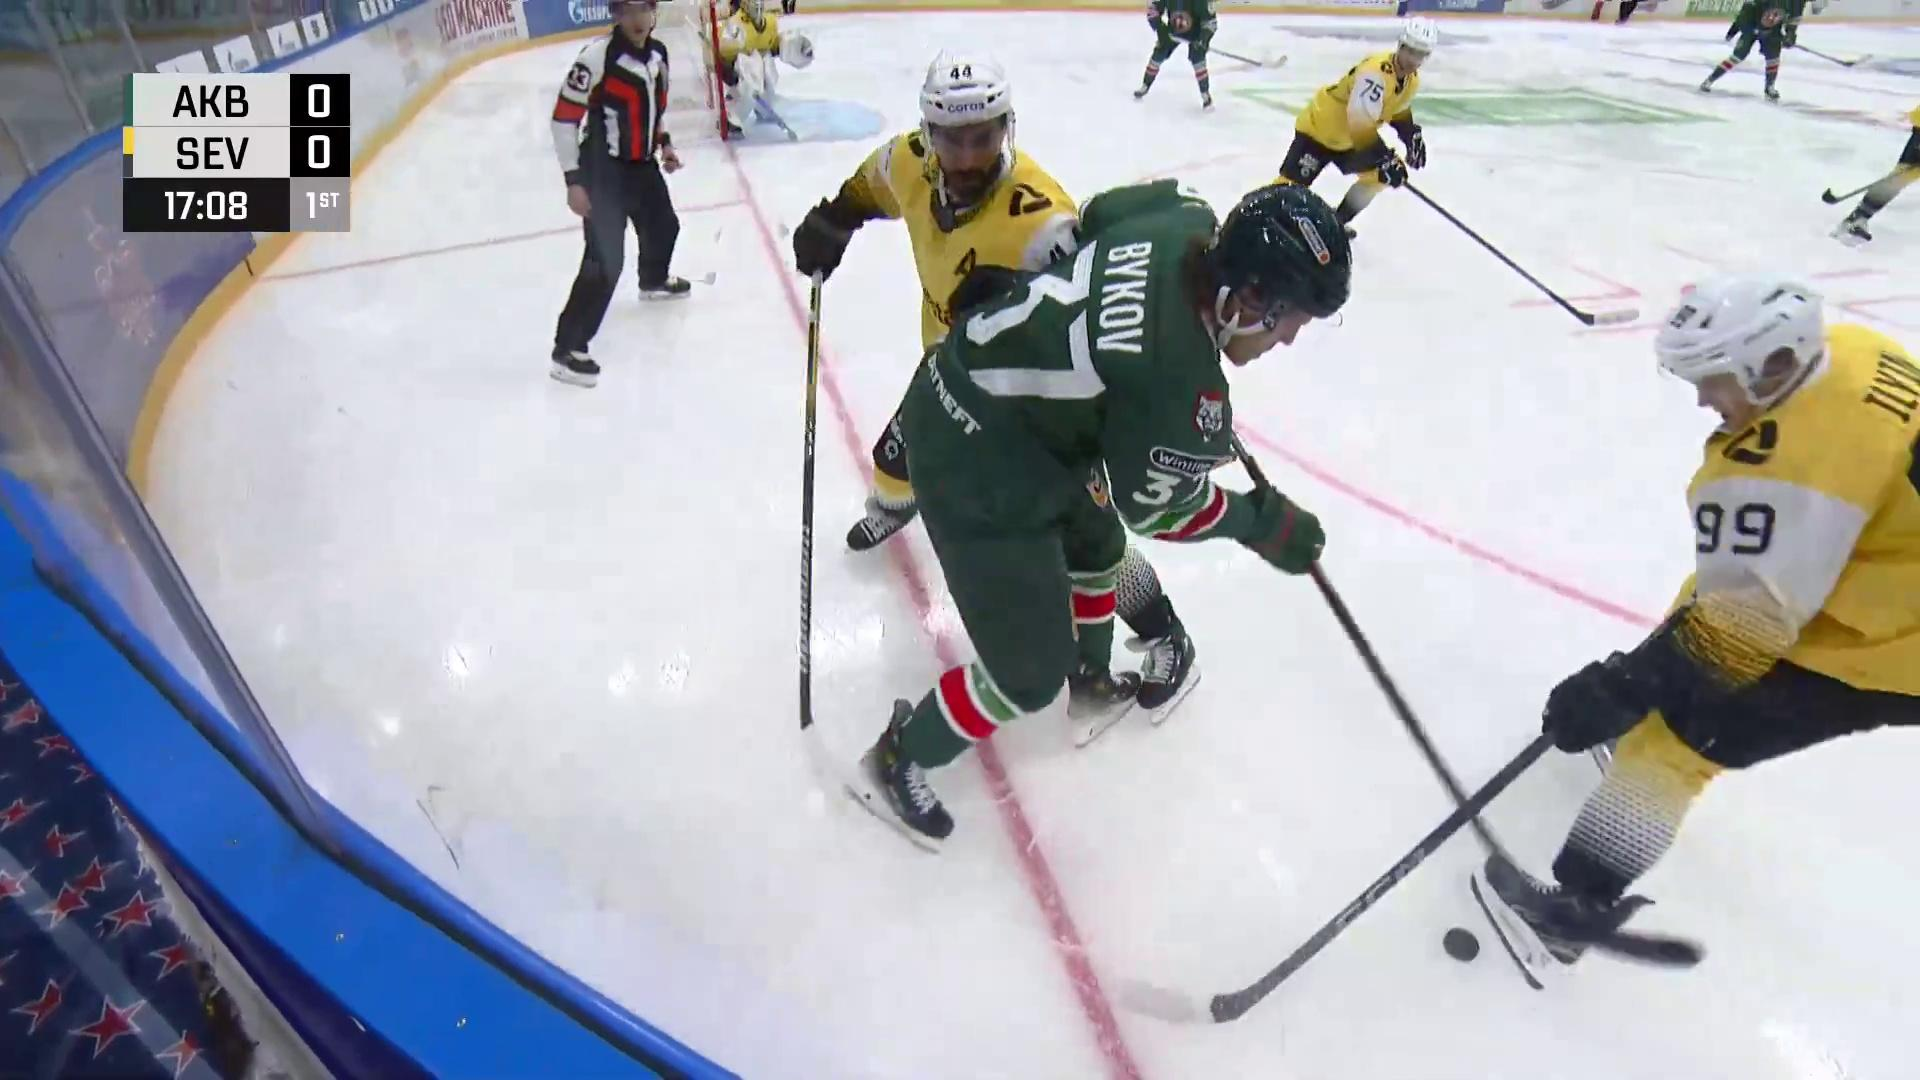ball: (1441, 920, 1485, 965)
